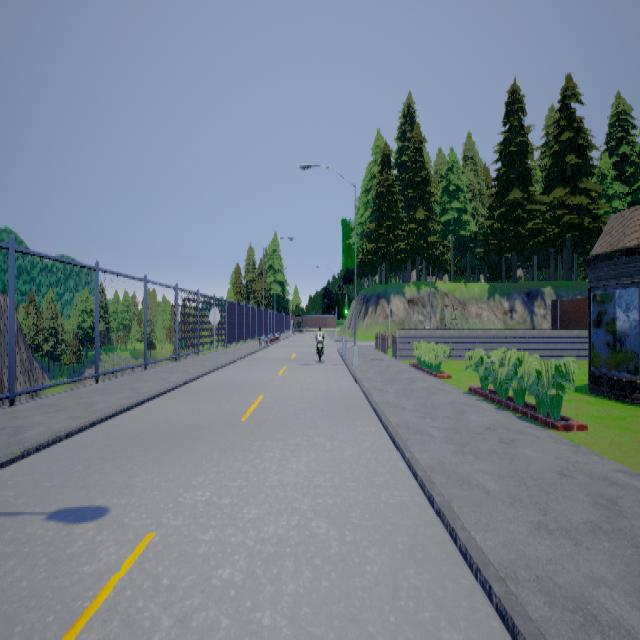motobike: (314, 324, 325, 361)
